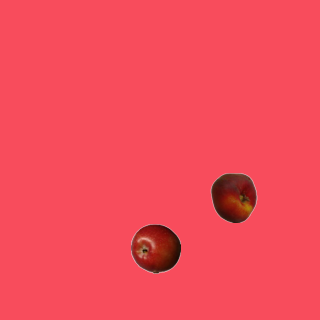Apple Braeburn: (130, 223, 180, 273)
Nectarine Flat: (208, 172, 258, 222)
